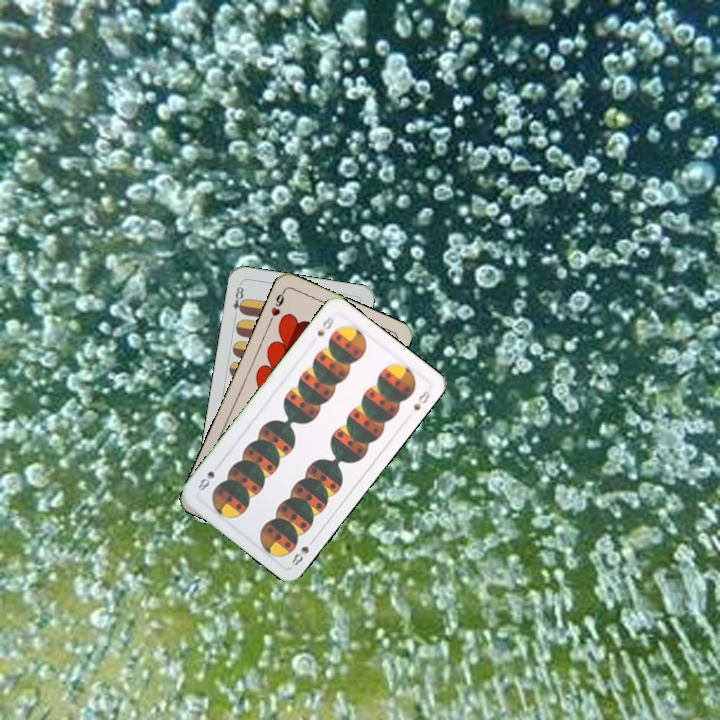E8: (229, 280, 247, 320)
H9: (265, 286, 288, 325)
S8: (287, 534, 318, 569), (313, 311, 337, 339)
